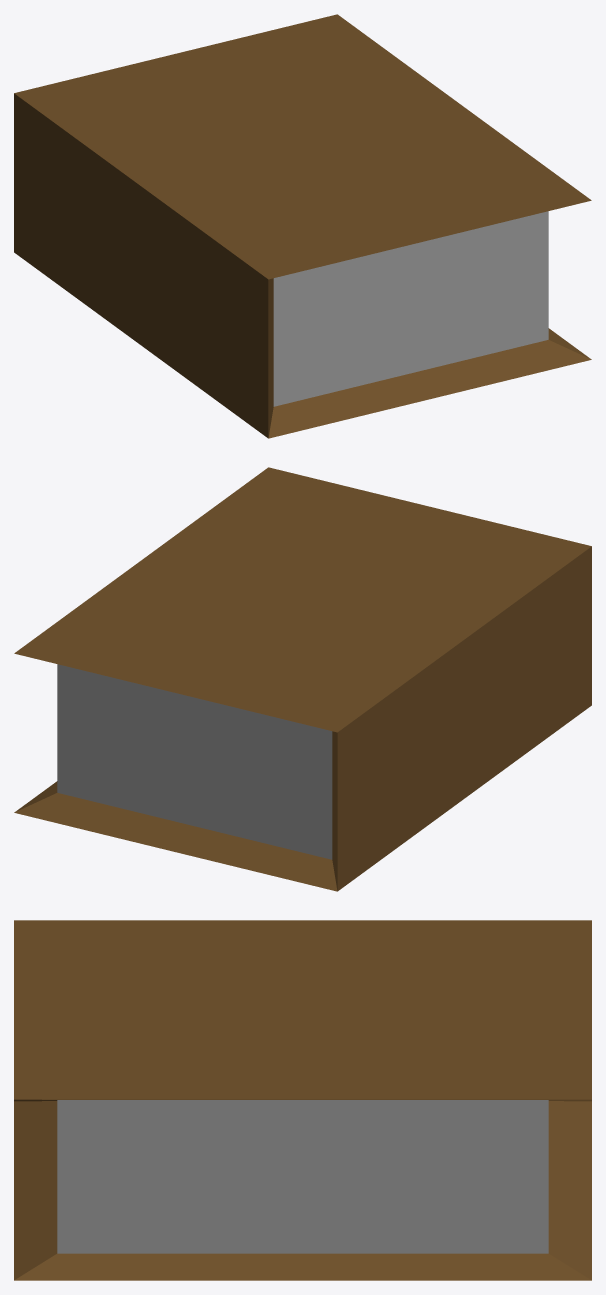
Rendered from Book.fbx.
The picture shows the model from 3 angles, top to bottom: view 1: azimuth 30°, elevation 25°; view 2: azimuth 150°, elevation 25°; view 3: azimuth 270°, elevation 25°; orthographic projection. The views are drawn at different scales.
Visible parts, largest first — view 1: pCube1; view 2: pCube1; view 3: pCube1.
Boxes of the visible parts, box(x1,y1,x2,y2) form: pCube1: box(14, 14, 591, 438); pCube1: box(14, 467, 591, 891); pCube1: box(14, 920, 591, 1280).
Size of the model in its own units: 1.49 by 0.7013 by 2.03.
